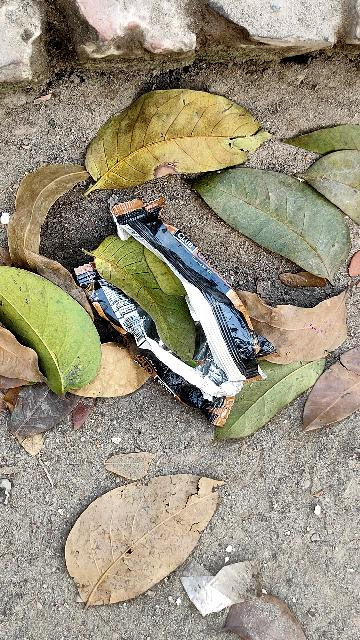packet: (53, 183, 300, 431)
